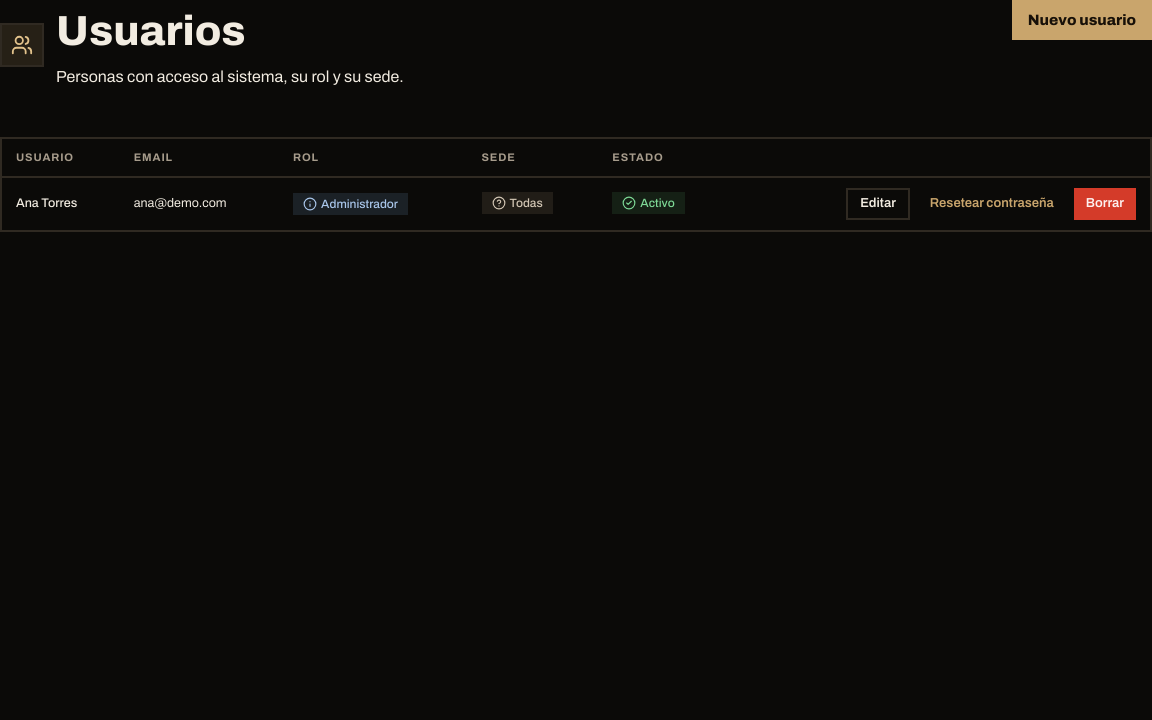
Test case: UsersSettingsPage › elimina un usuario con confirmación y lo quita mediante el endpoint real
Check: the text "Ana Torres" is shown, box [16,196,77,210]
Click the button "Borrar". click: (1105, 204)
box: [1074,188,1136,220]
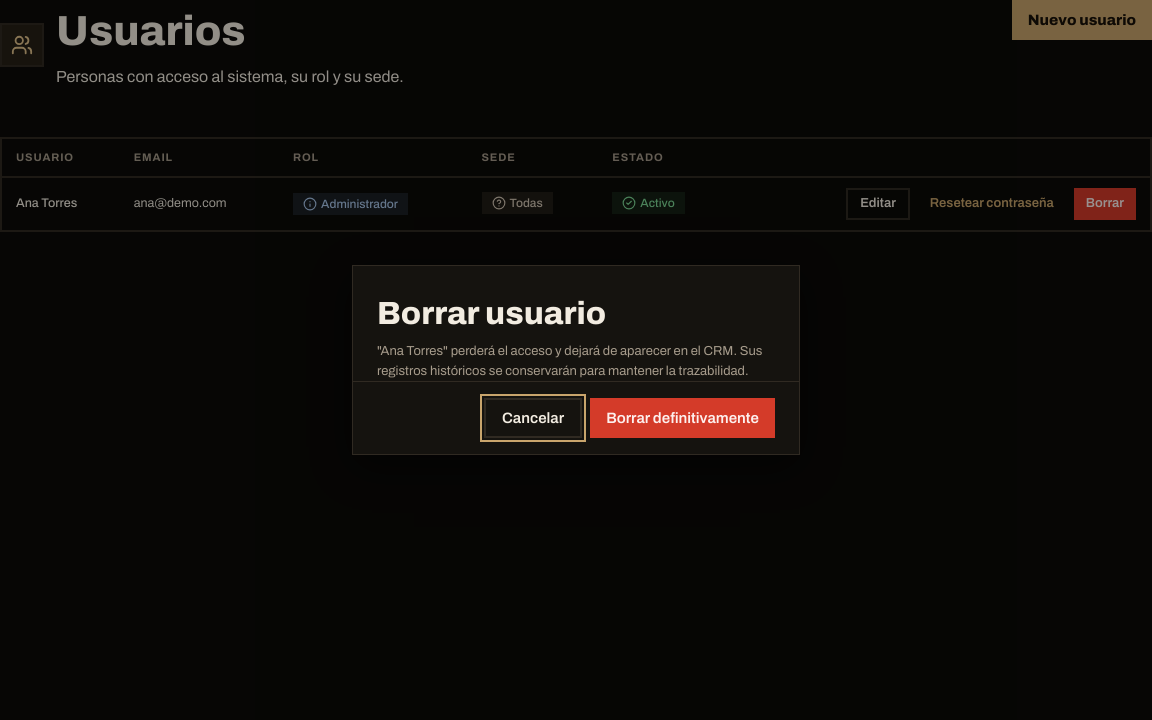
Check: the dialog "Borrar usuario" is shown, box [352,265,800,455]
Click the button "Borrar definitivamente". click: (683, 418)
box: [590,398,775,438]
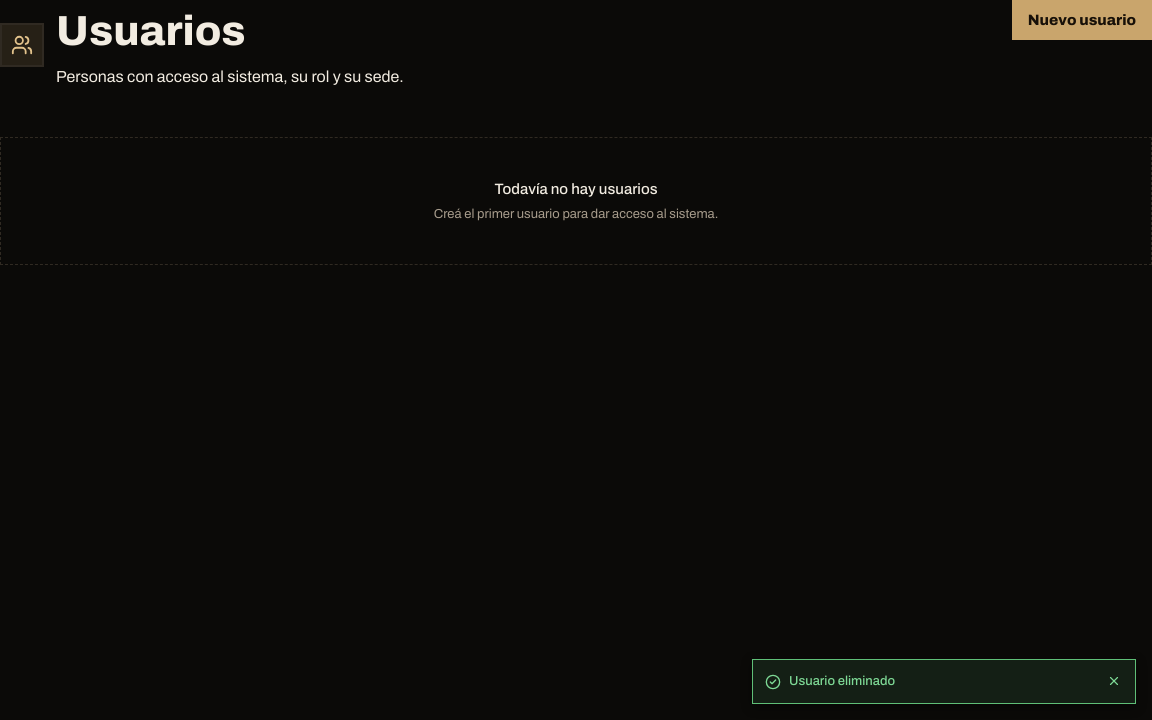
Check: the text "Ana Torres" is gone
